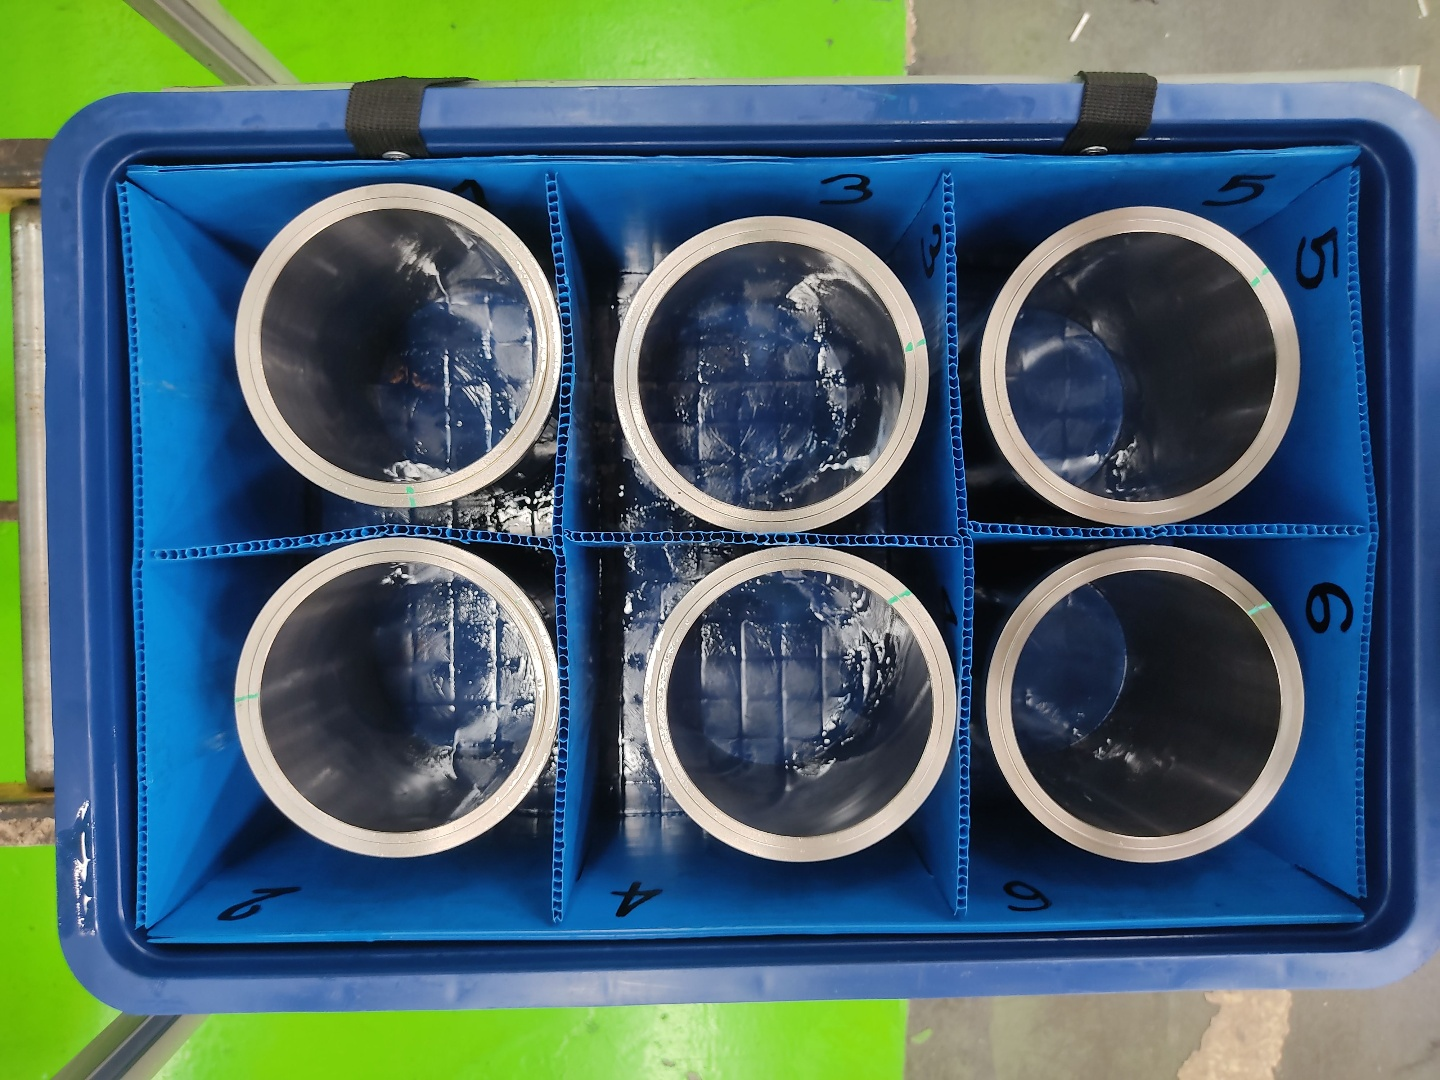cylinder: (230, 175, 565, 514), (230, 534, 564, 863), (977, 199, 1302, 529), (979, 541, 1308, 866), (605, 213, 934, 537), (641, 545, 960, 868)
